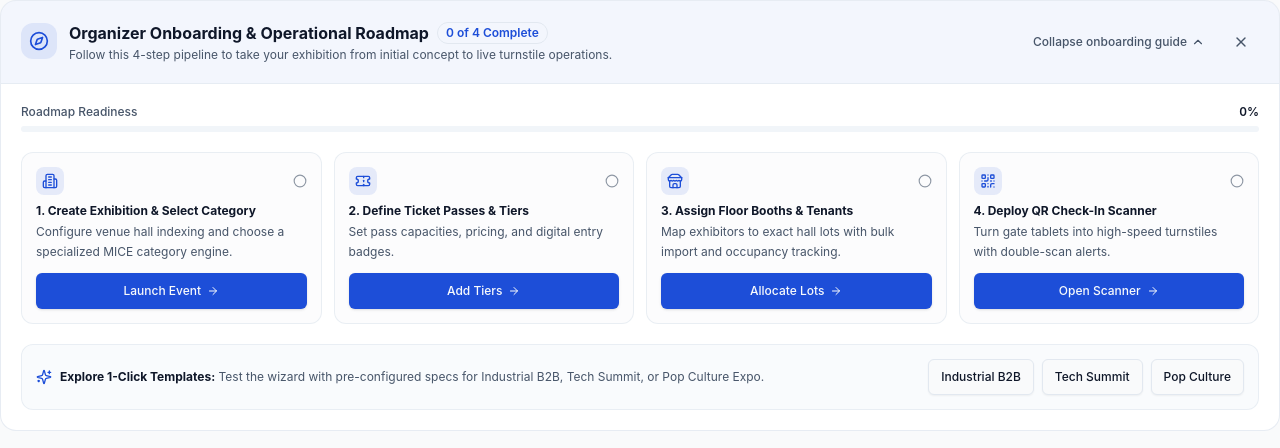
Test case: Component: OrganizerOnboardingGuide › toggles collapse and expand states
Expected: the text "Roadmap Readiness" is shown, [21,104,138,120]
Click the button "Collapse onboarding guide": (1119, 42) [1021,24,1217,60]
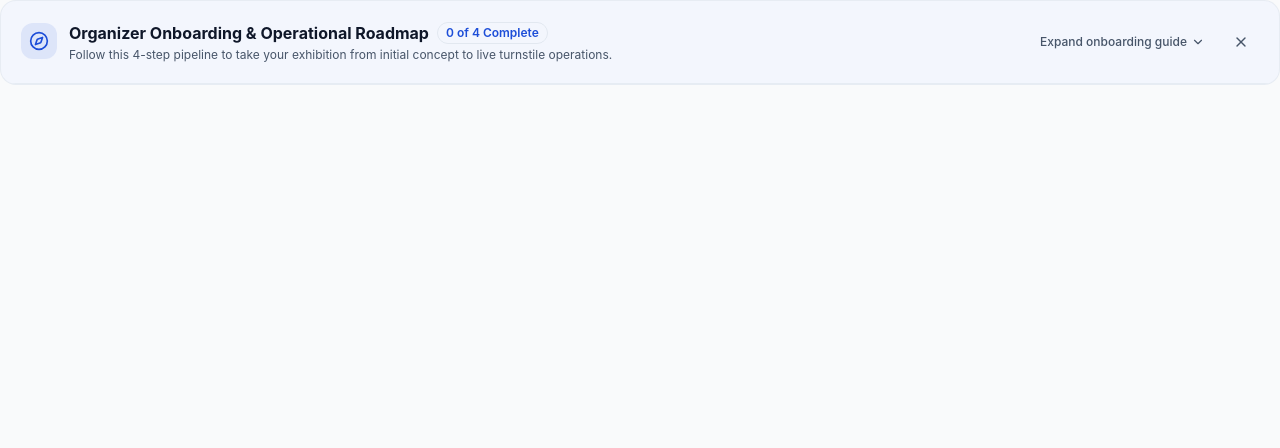
Expected: the text "Roadmap Readiness" is gone
